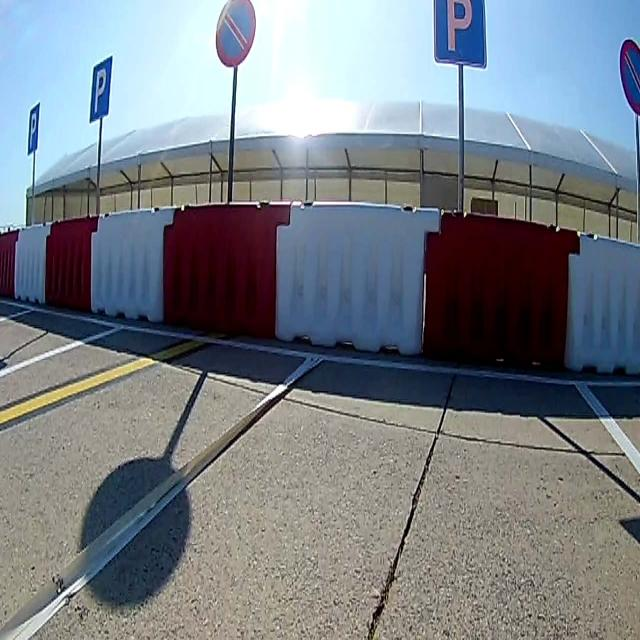park: (435, 1, 488, 67), (89, 57, 113, 117), (29, 107, 39, 150)
parkyasak: (216, 1, 256, 63)
